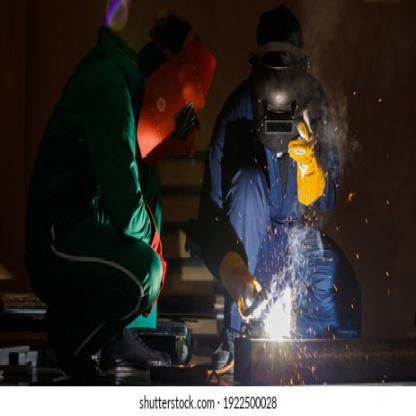with_gloves: (288, 108, 326, 206), (219, 249, 262, 320)
